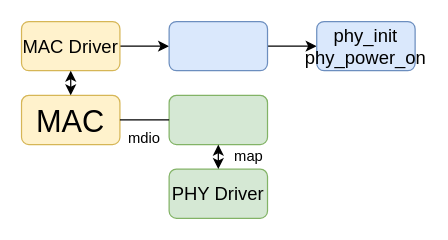
Image size: 448x240. Some labels were removed from this diagram. The centre of each missing label's shape, as x and y in pixels:
PHY: pixel 218 119
phy_get: pixel 218 45
